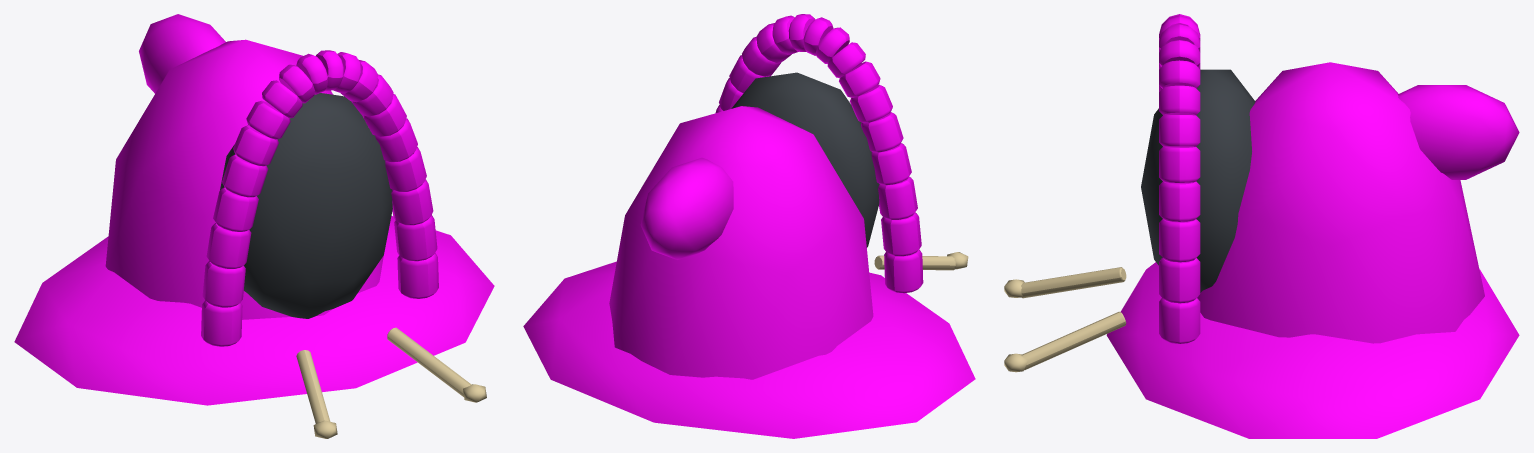
File: objet_capuche.glb
3 views of the same model, side by side, from view 1: azimuth 30°, elevation 25°; view 2: azimuth 150°, elevation 25°; view 3: azimuth 270°, elevation 25° (orthographic). The views are drawn at different scales.
Visible parts, largest first — view 1: capuche_teinte.002, capuche_teinte_sombre.002, capuche_ficelle.002; view 2: capuche_teinte.002, capuche_teinte_sombre.002, capuche_ficelle.002; view 3: capuche_teinte.002, capuche_teinte_sombre.002, capuche_ficelle.002.
Part boxes in pixels (box(x1,y1,x2,y2)): capuche_teinte.002: box(14, 14, 494, 405); capuche_teinte_sombre.002: box(220, 93, 392, 318); capuche_ficelle.002: box(296, 327, 486, 438); capuche_teinte.002: box(523, 14, 975, 438); capuche_teinte_sombre.002: box(731, 72, 879, 247); capuche_ficelle.002: box(874, 252, 968, 270); capuche_teinte.002: box(1106, 14, 1519, 438); capuche_teinte_sombre.002: box(1141, 69, 1255, 292); capuche_ficelle.002: box(1004, 267, 1126, 372).
Size of the model in its own units: 0.2853 by 0.2014 by 0.2993.
